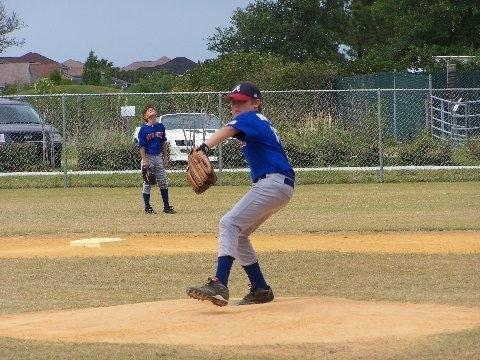car: (130, 110, 228, 164), (0, 98, 62, 170)
